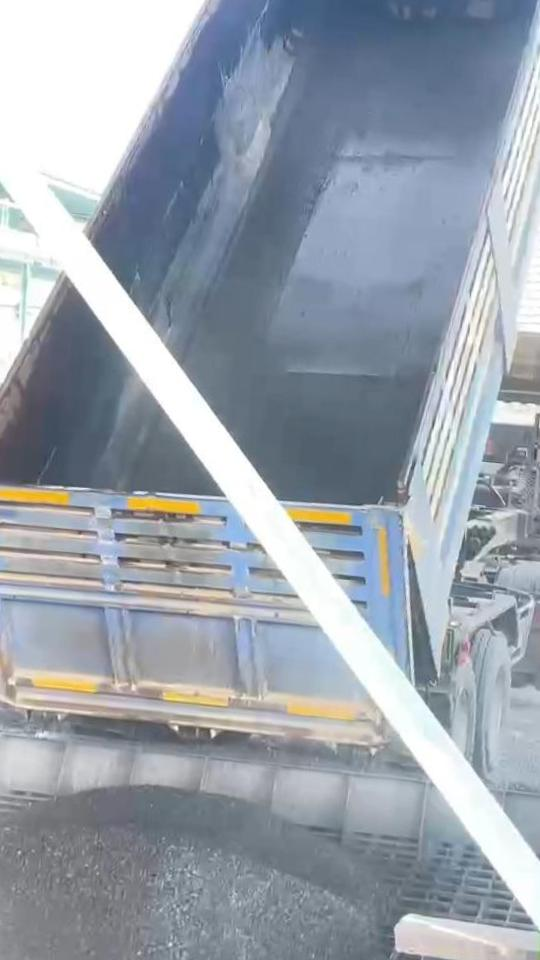gravel: (0, 790, 388, 960), (0, 662, 29, 729)
